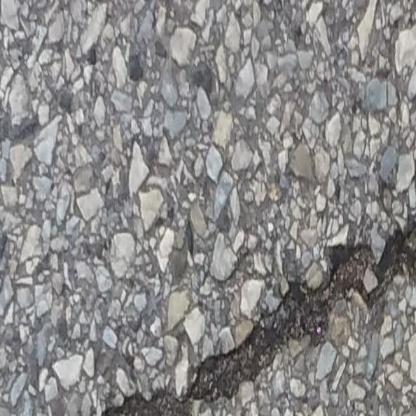Cracks: (76, 216, 416, 416)
